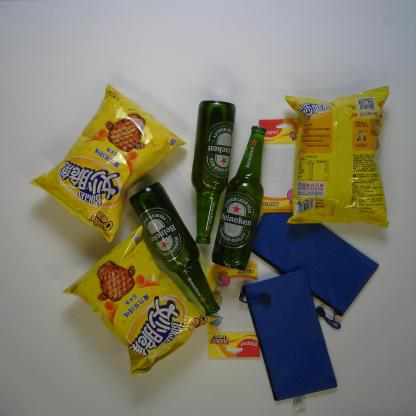Alcohol: (129, 181, 220, 316), (210, 123, 266, 271), (190, 99, 236, 246)
Puffed Food: (28, 83, 188, 244), (61, 226, 217, 378), (284, 86, 390, 229)
Stationery: (248, 205, 380, 330), (238, 268, 338, 402), (203, 262, 261, 358), (258, 118, 306, 213)
